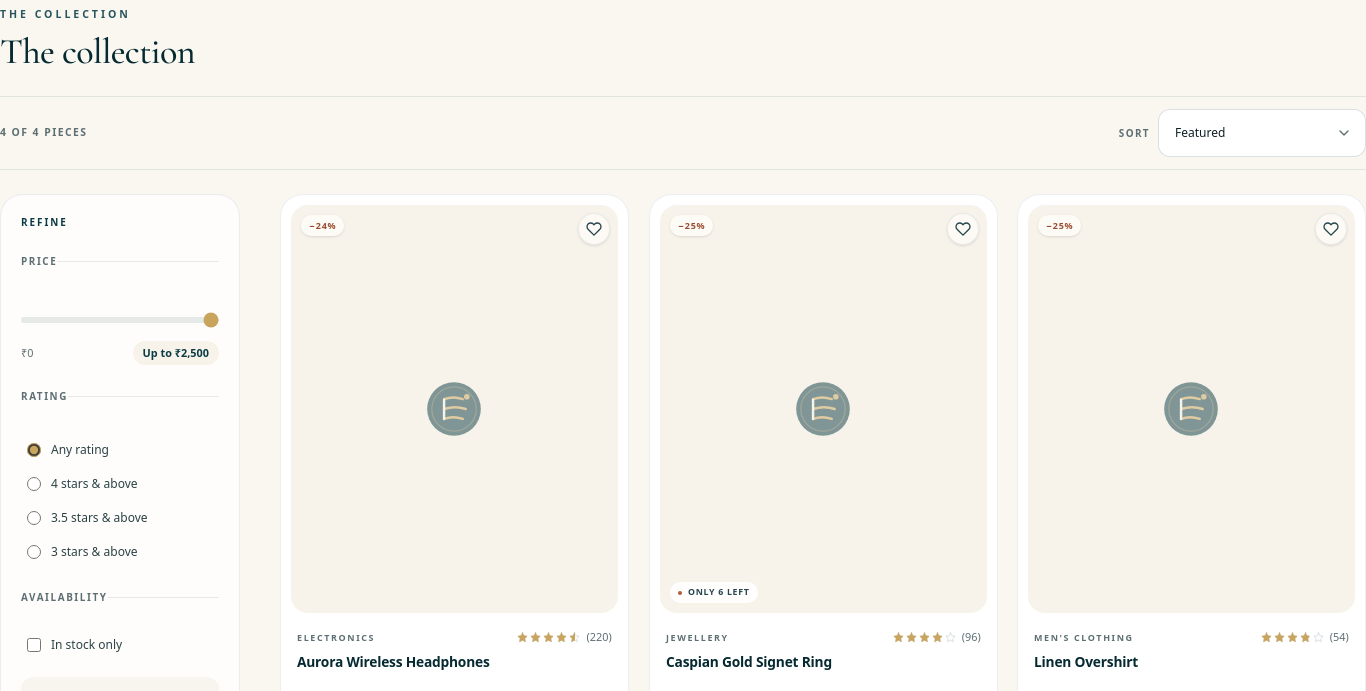
Test: ProductListing › shows an empty state for an impossible price range and can clear it
Set the slider named "Maximum price" to "100" at x=36, y=320, box [21, 317, 219, 323]
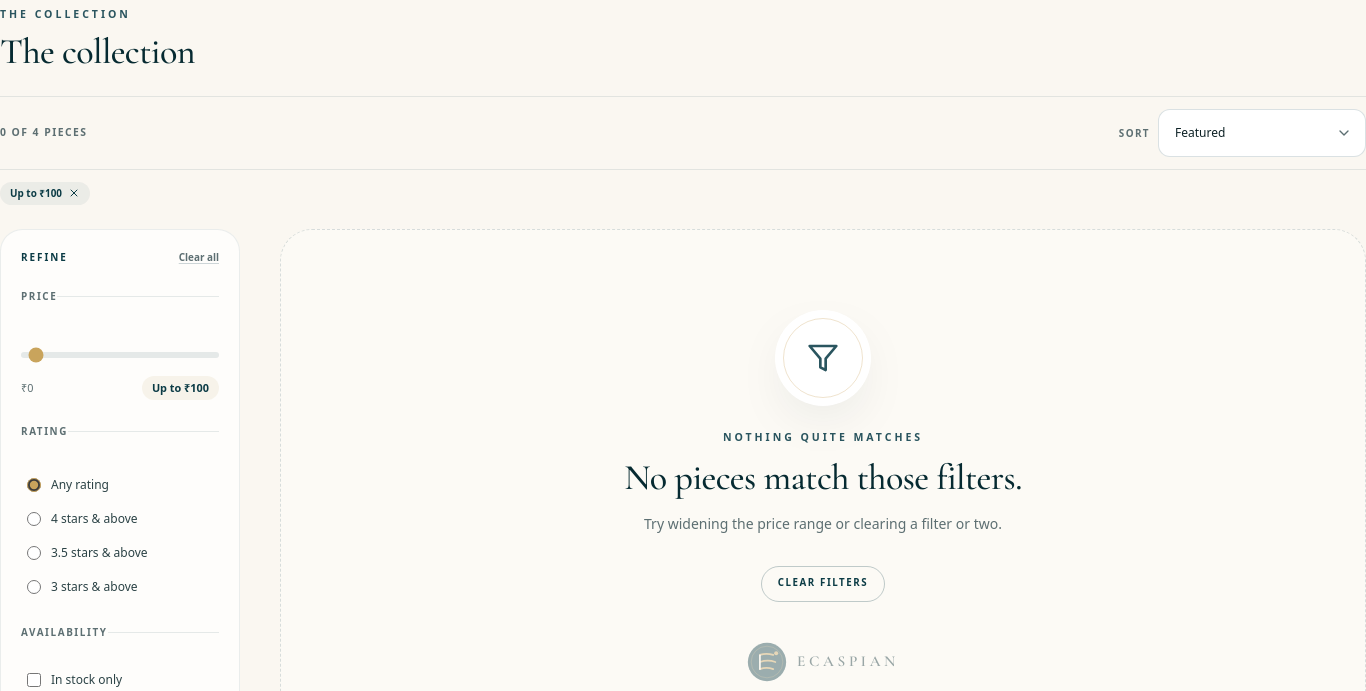
Now the heading "No pieces match those filters." is shown, box [624, 458, 1022, 498]
Click the button "Clear filters" at x=823, y=584, box [761, 566, 885, 602]
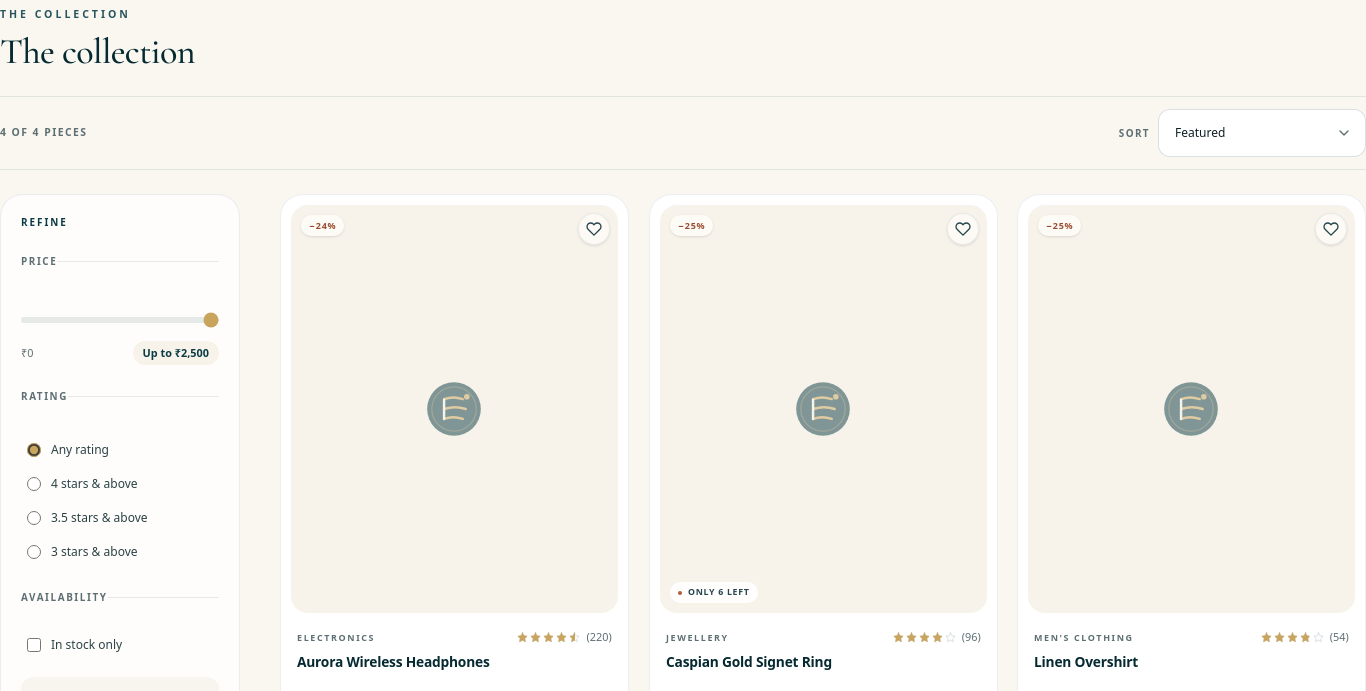
Now the heading "No pieces match those filters." is gone
